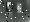person: (7, 4, 13, 17), (18, 4, 23, 14)
